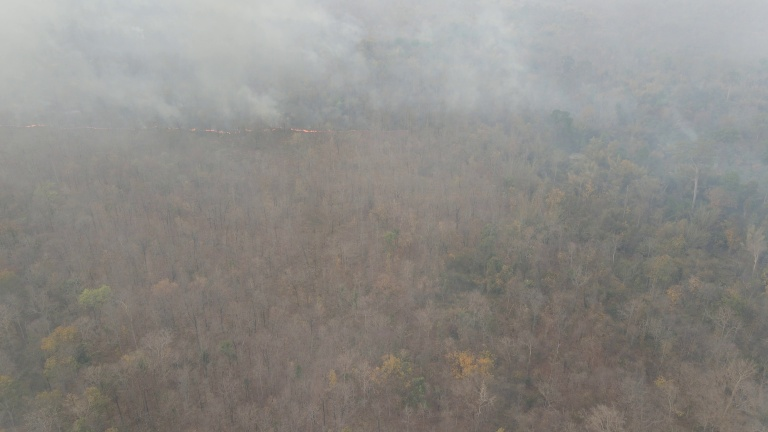fire: (171, 121, 346, 142), (5, 119, 44, 133)
smoke: (1, 1, 768, 151)
